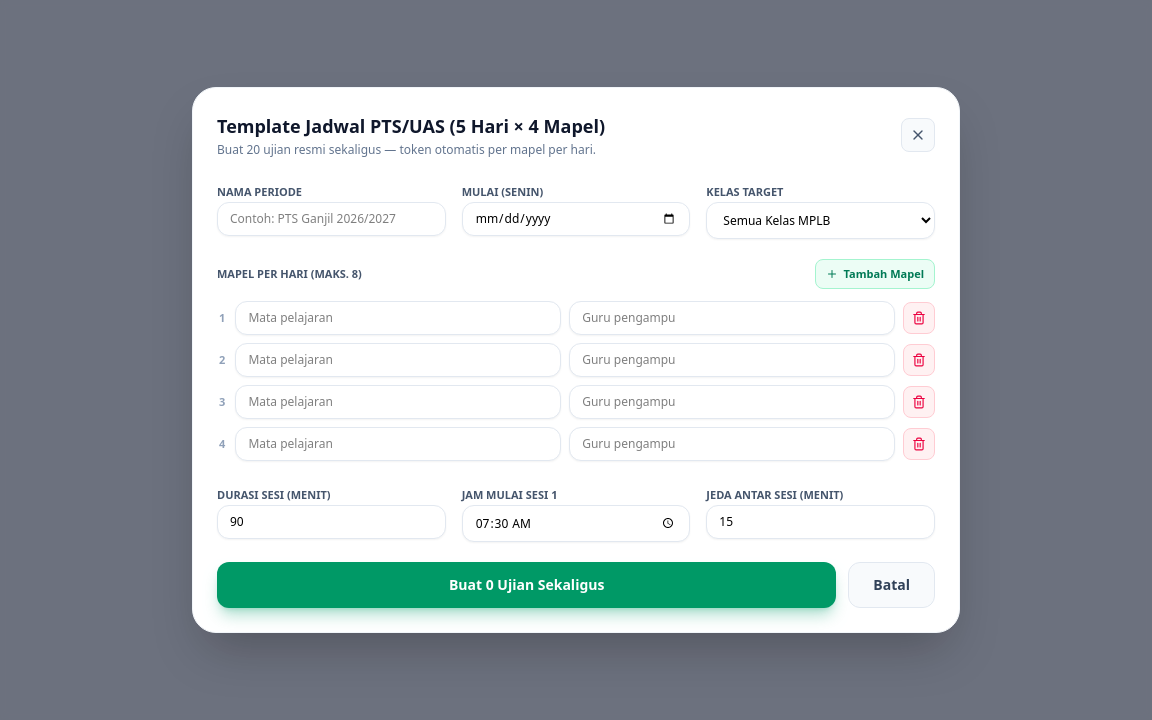
Scenario: CbtBulkScheduleModal › menampilkan form template dan pratinjau jadwal
The width and height of the screenshot is (1152, 720).
Expected: the heading "Template Jadwal PTS/UAS (5 Hari × 4 Mapel)" is shown, [217,112,605,140]
Expected: the number of fields with placeholder "Mata pelajaran" is 4, [235,302,561,336]; [235,344,561,378]; [235,386,561,420]; [235,428,561,462]
In the field with placeholder "Contoh: PTS Ganjil 2026/2027": (331, 219) [217,202,446,236], type "PTS Ganjil"
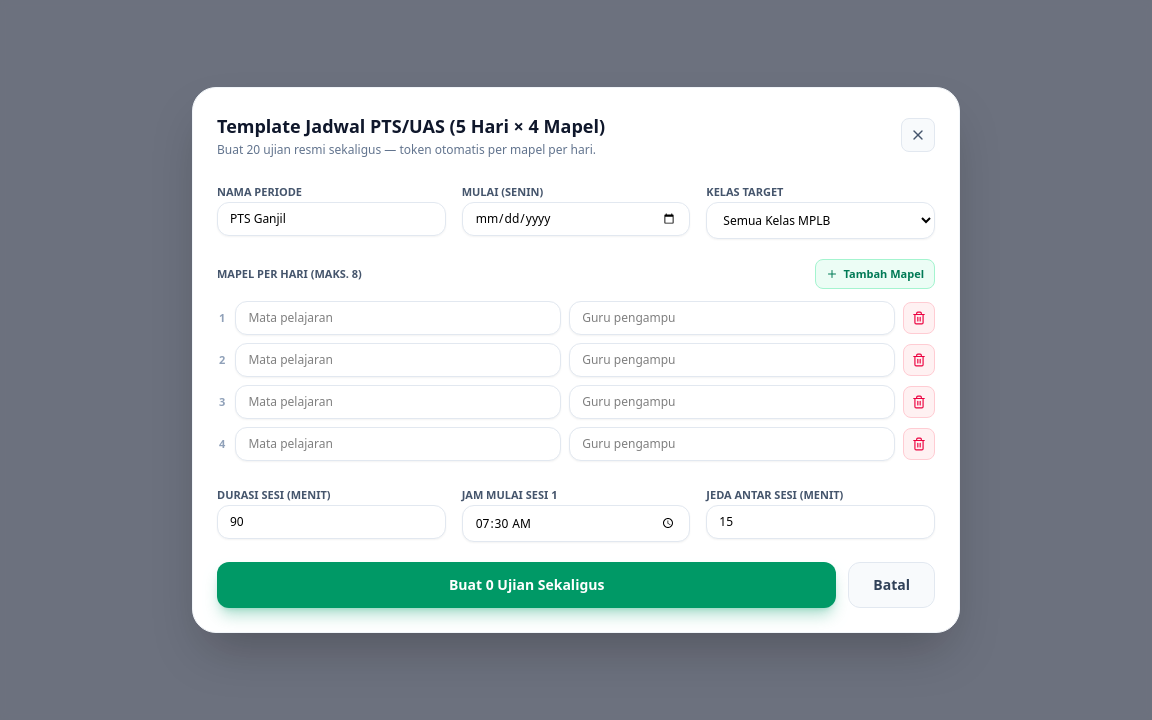
In the date field labelled "Mulai (Senin)": (576, 219) [462,202,690,236], type "2026-09-14"
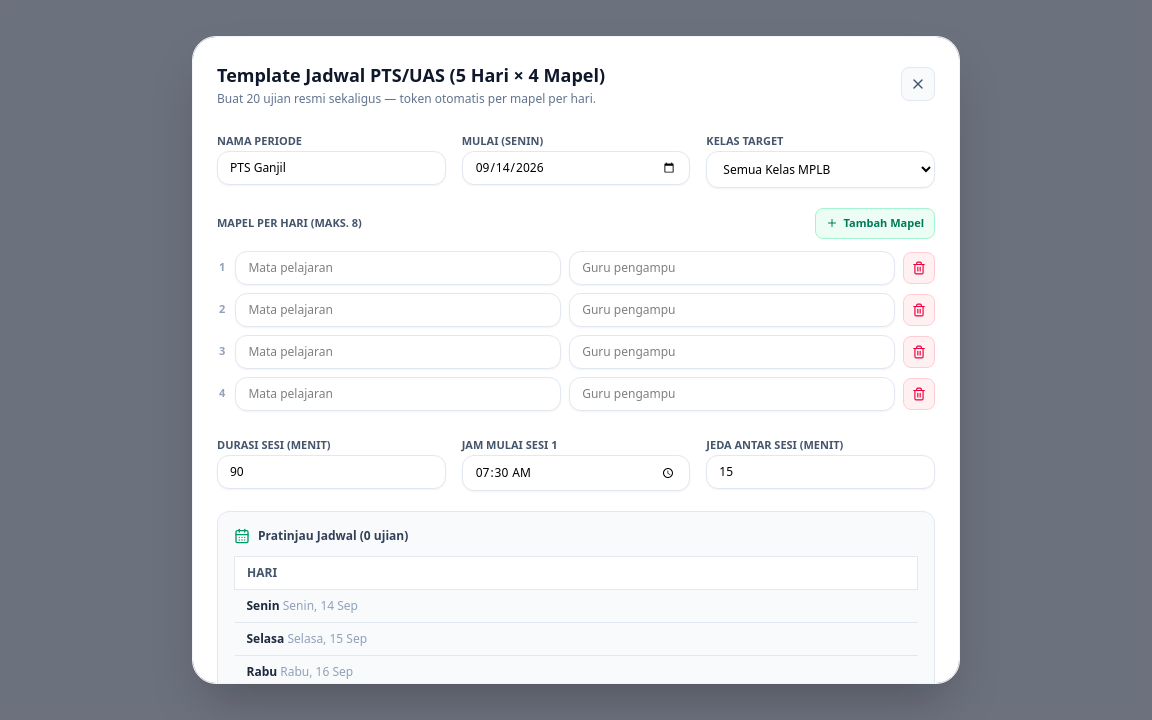
Expected: the text "Pratinjau Jadwal (0 ujian)" is shown, [234,527,408,544]
